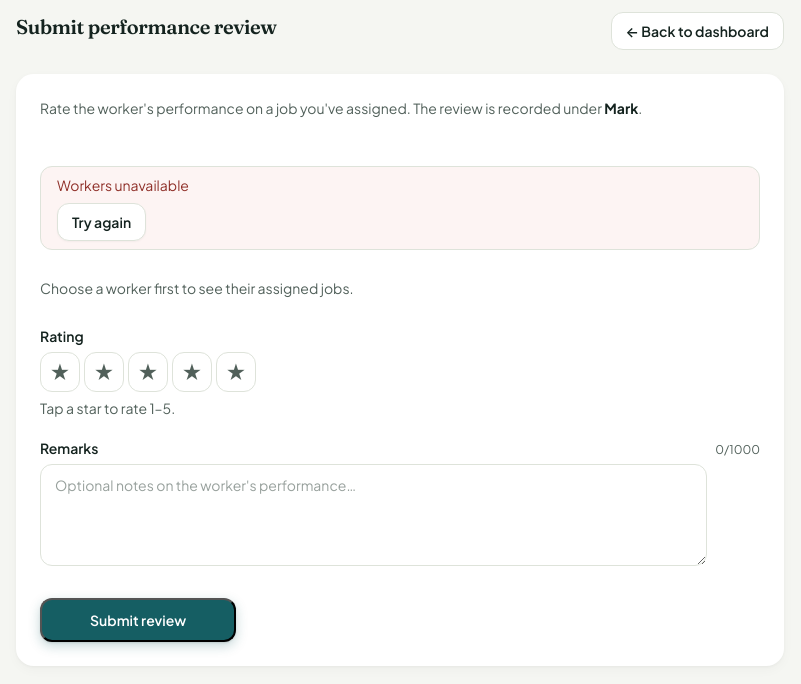
Test: SubmitReview › shows per-picker errors with retry when loading fails
The width and height of the screenshot is (801, 684).
Check: the text "Workers unavailable" is shown, box [57,176,189,194]
Click the button "Try again" at (102, 222), box [57,203,146,241]
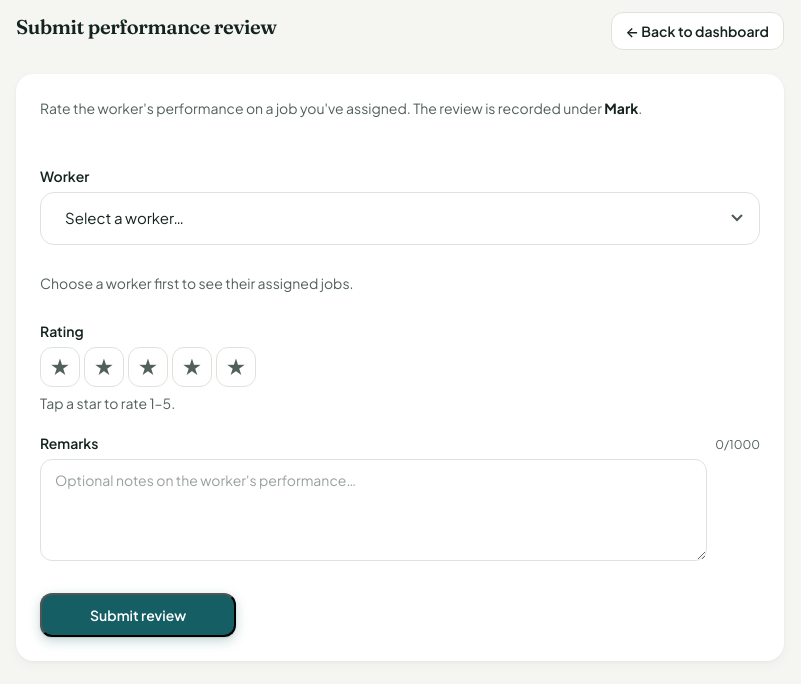
Check: the dropdown labelled "Worker" is shown, box [40,192,760,244]
